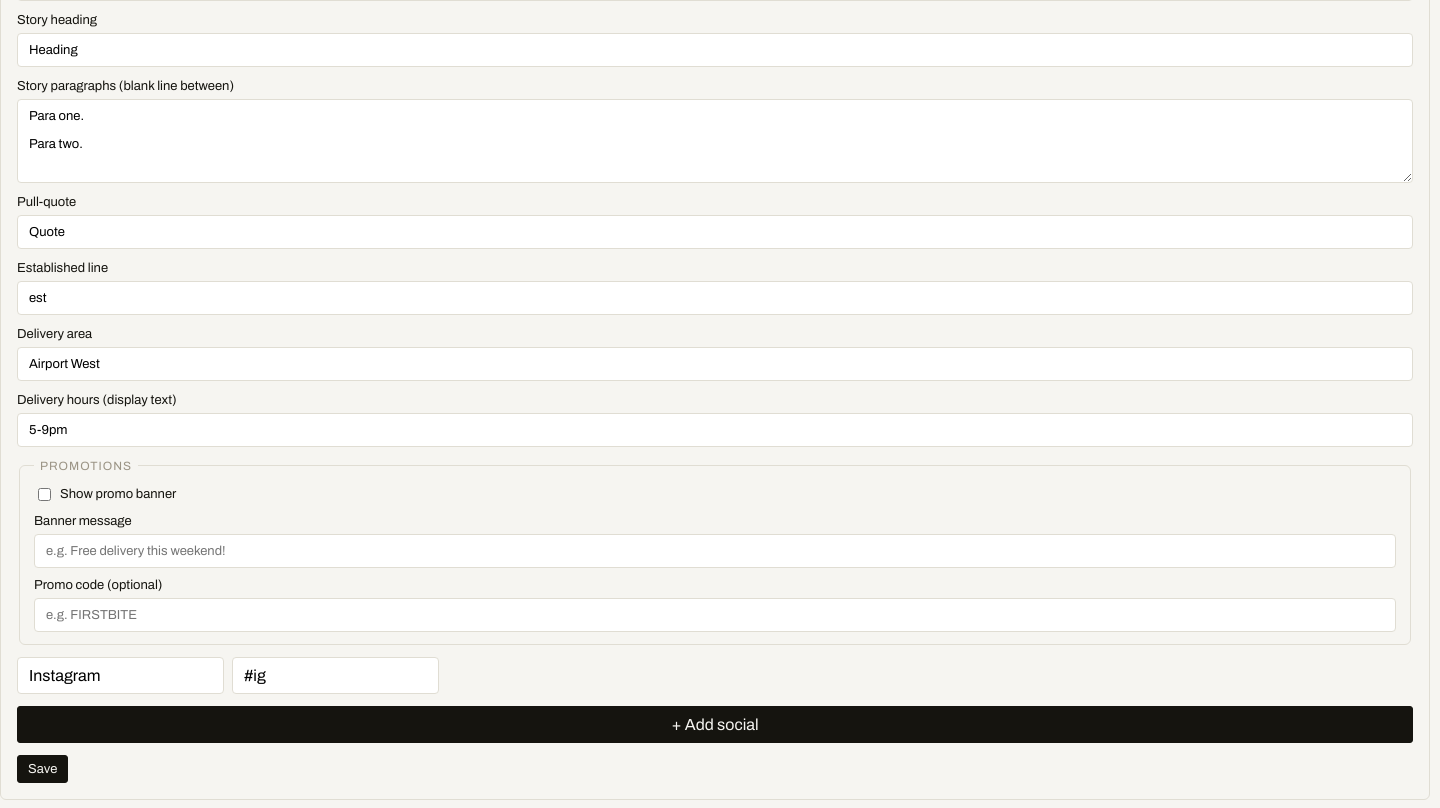
Test: BrandEditor › shows an error when saving fails
(page scrolled)
Click the button "Save".
click(43, 769)  # box x1=17 y1=755 x2=68 y2=783
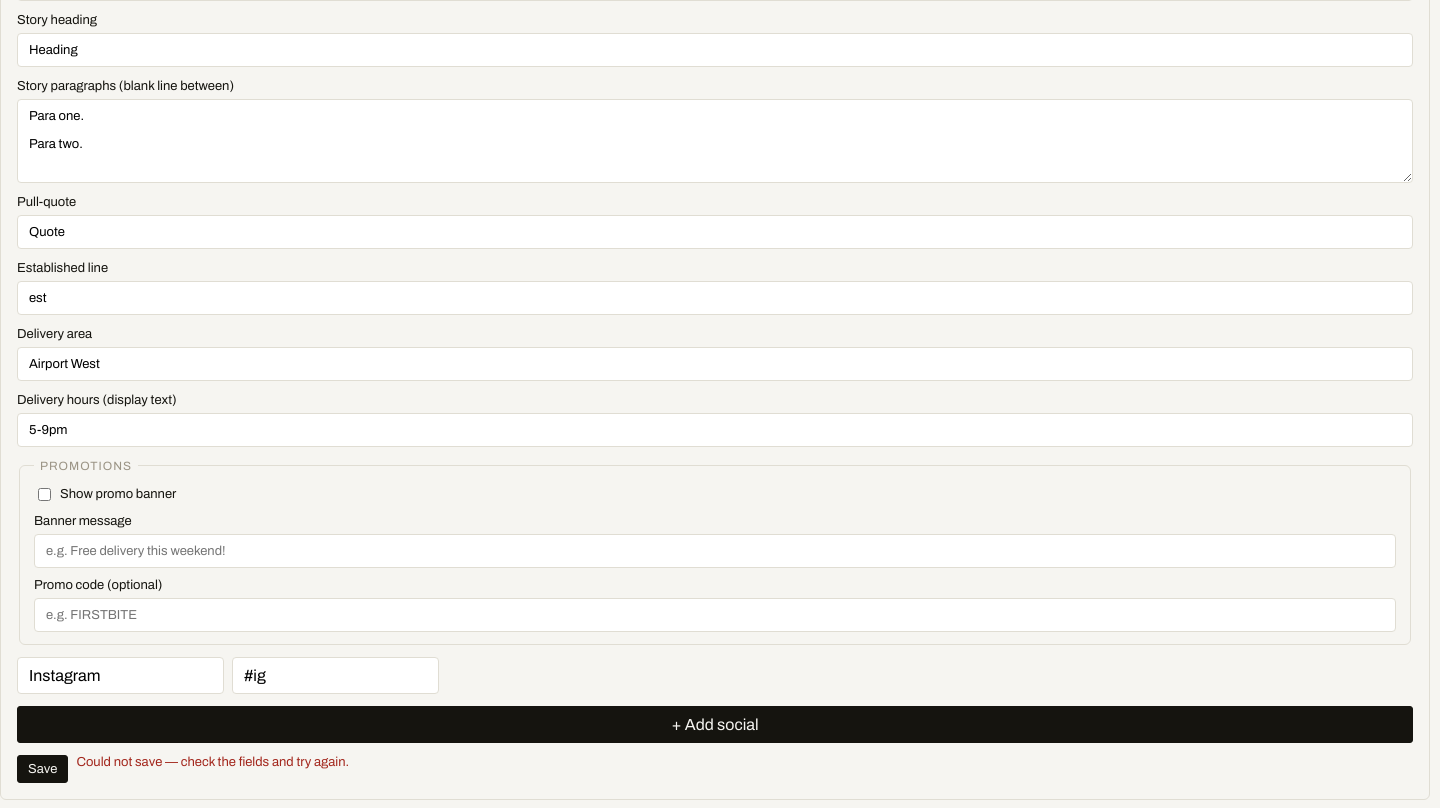
Result: the message shows "Could not save" at x1=76 y1=755 x2=349 y2=769
